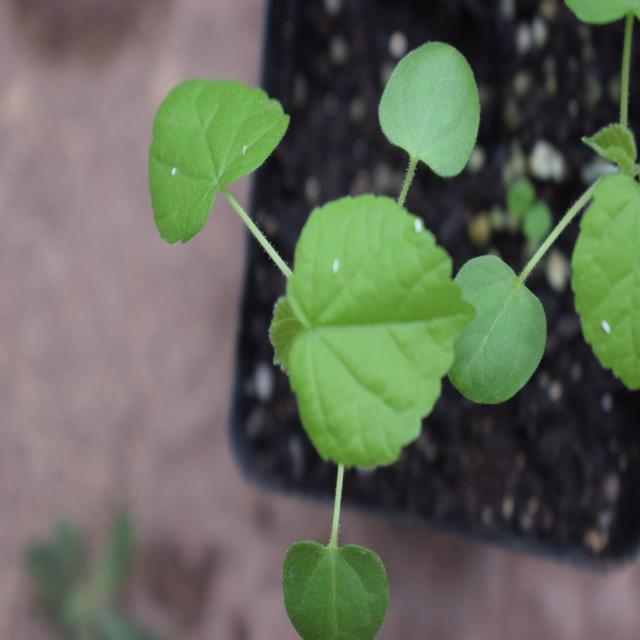abutilon theophrasti: (151, 24, 489, 592)
